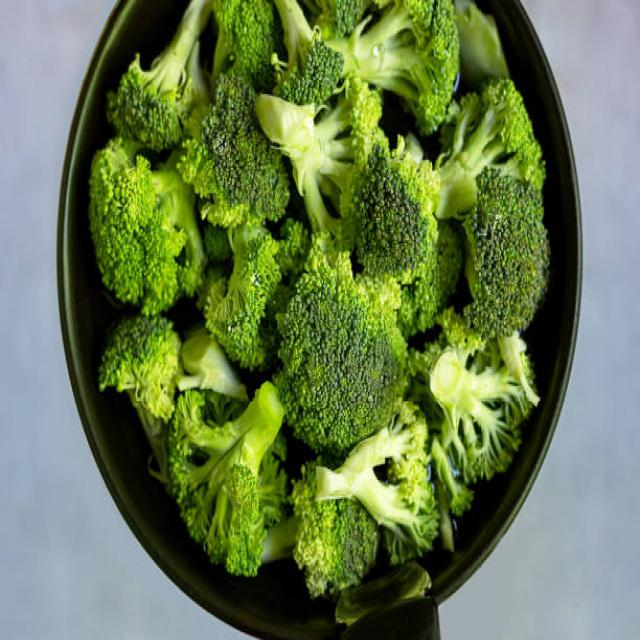broccoli: (280, 252, 404, 469), (160, 387, 290, 556), (92, 156, 206, 312), (455, 166, 554, 343), (345, 0, 478, 101), (269, 91, 362, 228), (294, 504, 380, 627), (434, 367, 518, 479), (202, 92, 270, 212)
